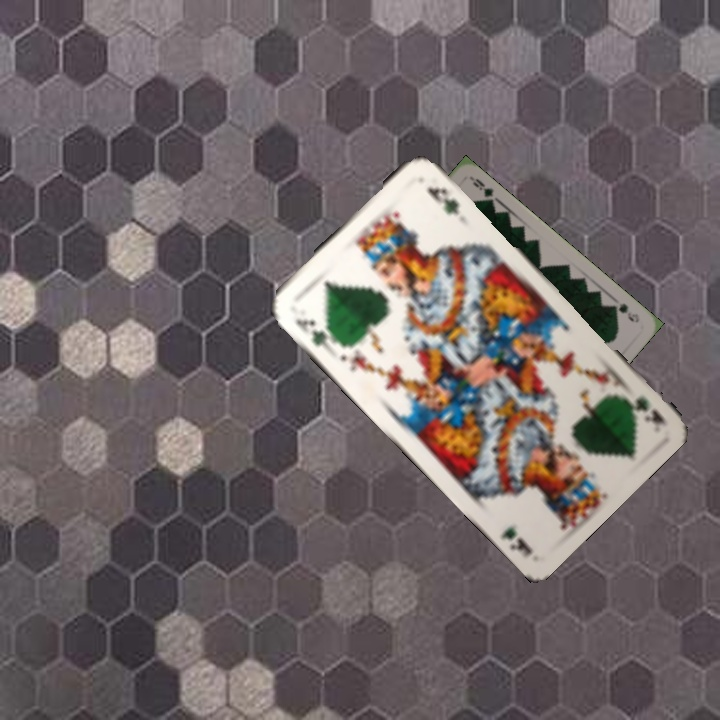G9: (606, 299, 642, 325)
GK: (617, 389, 668, 427), (291, 314, 336, 352)
